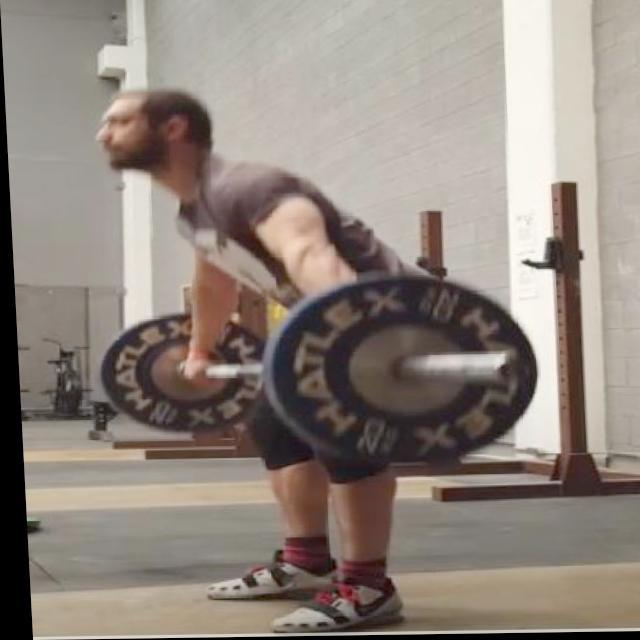barbell: (253, 269, 546, 481)
